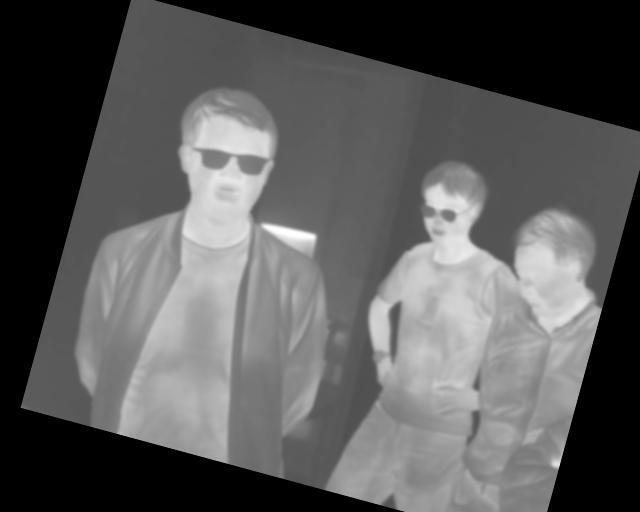face: (158, 74, 291, 232), (496, 196, 606, 329), (406, 151, 496, 254)
